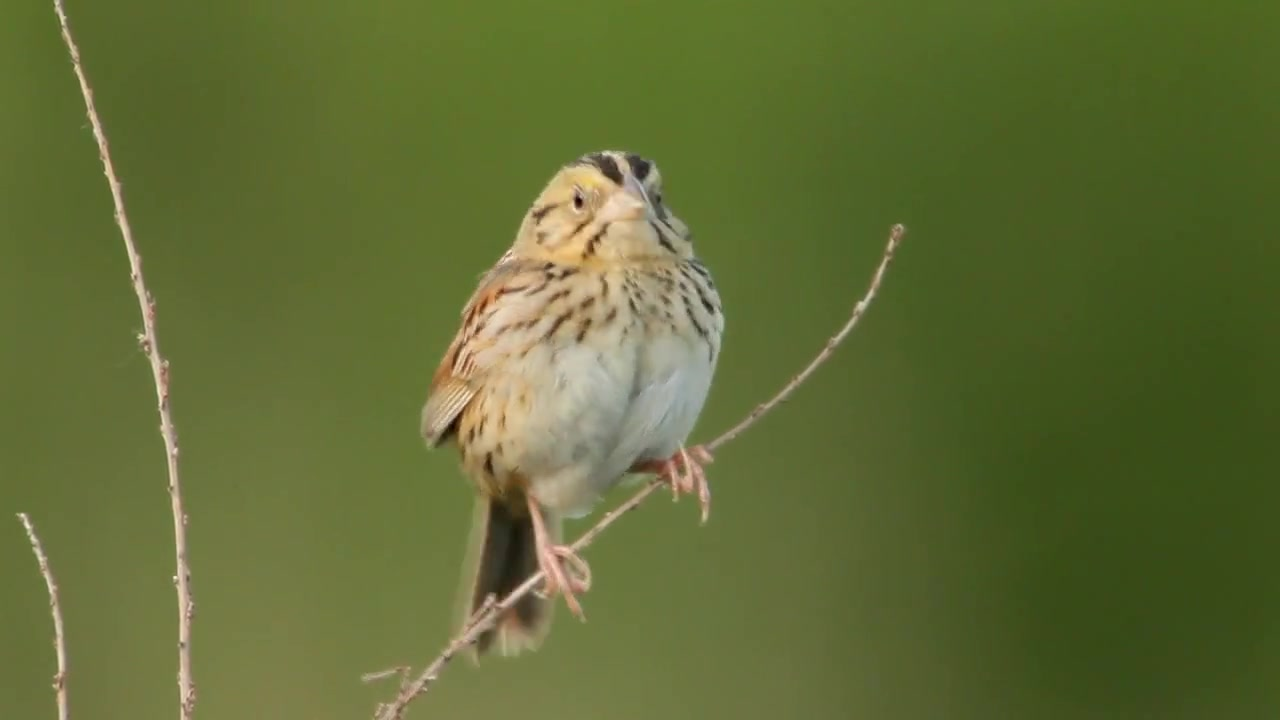bird: (421, 151, 726, 671)
